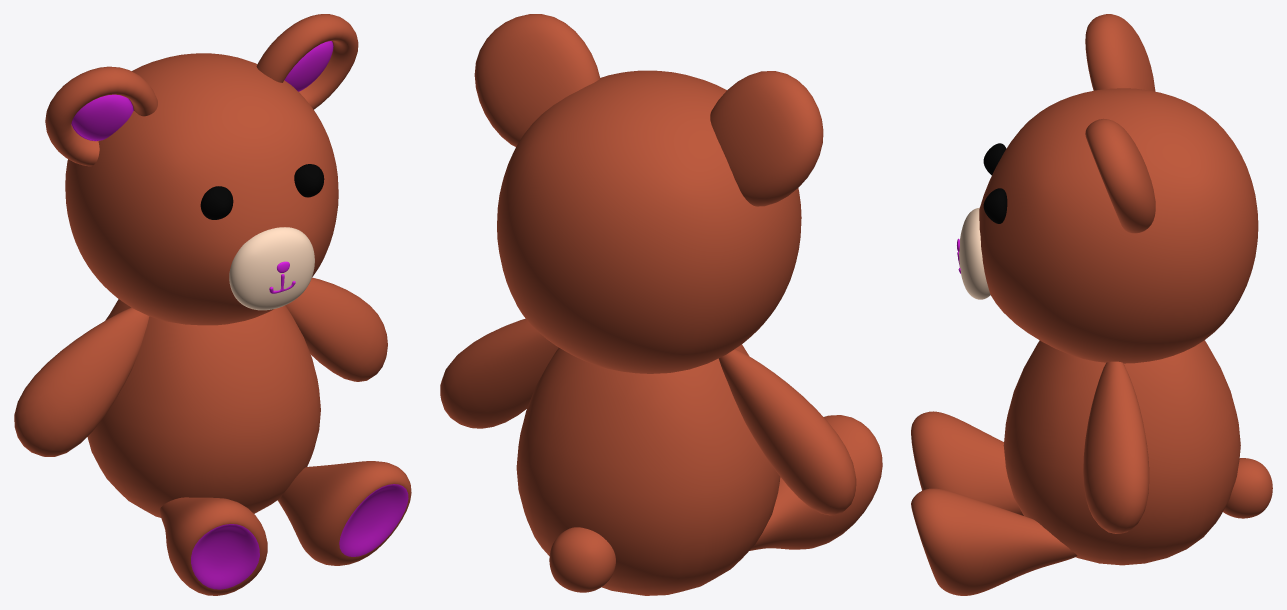
Rendered from Ours.glb.
3 renders of one model, left to right at view 1: azimuth 30°, elevation 25°; view 2: azimuth 150°, elevation 25°; view 3: azimuth 270°, elevation 25°, orthographic. The views are drawn at different scales.
Parts seen in each view (by area): view 1: Tête, Corps, Jambes, Bras, Oreilles, Museau, Yeux; view 2: Tête, Corps, Oreilles, Bras, Jambes, Queue; view 3: Tête, Corps, Jambes, Oreilles, Bras, Queue, Museau, Yeux.
Boxes of the visible parts, <box> form: Tête: <box>65,53,338,325</box>; Corps: <box>87,299,320,517</box>; Jambes: <box>159,461,411,595</box>; Bras: <box>14,277,387,456</box>; Oreilles: <box>45,14,358,166</box>; Museau: <box>229,227,314,310</box>; Yeux: <box>200,164,324,219</box>; Tête: <box>497,70,801,373</box>; Corps: <box>516,344,780,595</box>; Oreilles: <box>474,14,823,206</box>; Bras: <box>440,318,856,515</box>; Jambes: <box>749,415,882,550</box>; Queue: <box>549,527,615,592</box>; Tête: <box>979,88,1258,363</box>; Corps: <box>1003,340,1240,565</box>; Jambes: <box>911,411,1077,595</box>; Oreilles: <box>1085,14,1155,233</box>; Bras: <box>1083,361,1149,533</box>; Queue: <box>1223,458,1272,518</box>; Museau: <box>959,207,990,299</box>; Yeux: <box>983,143,1007,223</box>.
Bounding box in the file's own units: 5.67 × 7.13 × 4.77.
